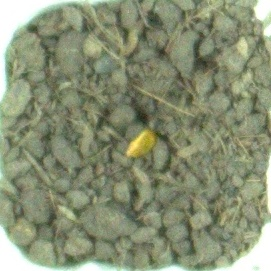pepper seed: (46, 48, 205, 208)
